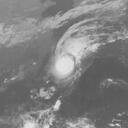cyclone: (48, 16, 120, 86)
